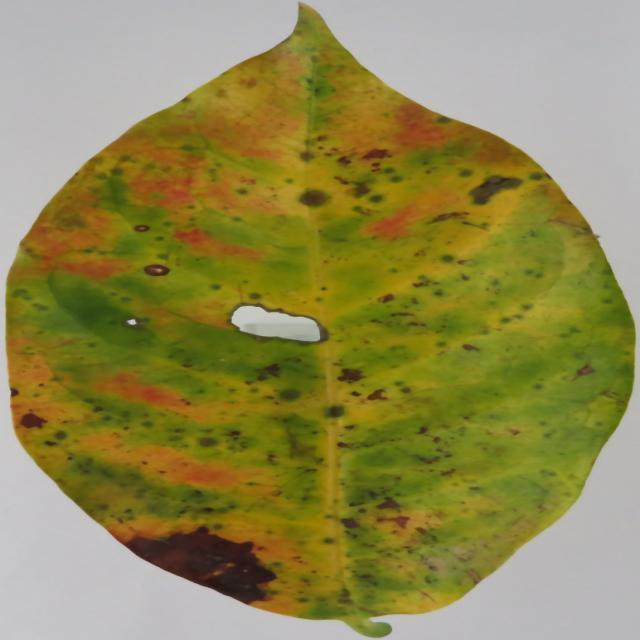DeficienciaNutricional-Fosforo: (7, 6, 634, 638)
